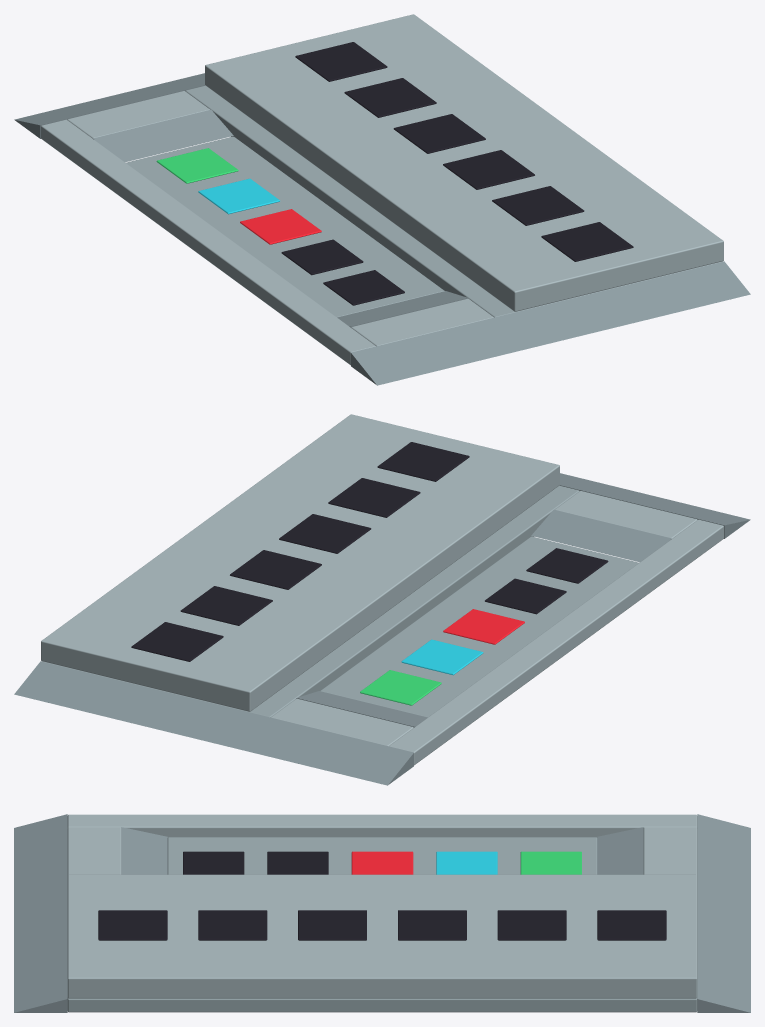
Rendered from Terrace_B.fbx.
3 views of the same model, one above another, from view 1: azimuth 30°, elevation 25°; view 2: azimuth 150°, elevation 25°; view 3: azimuth 270°, elevation 25° (orthographic).
Visible parts, largest first — view 1: RearShelf, EndSlope, TroughFloor, FrontRim, Back, TroughRamp.001, TroughEnd, TroughEnd.001, EndSlope.001, ShelfPad5, ShelfPad1, ShelfPad2 (+9 smaller); view 2: RearShelf, EndSlope.001, TroughFloor, FrontRim, Back, TroughRamp, TroughEnd, TroughEnd.001, EndSlope, ShelfPad2, ShelfPad6, ShelfPad3 (+9 smaller); view 3: RearShelf, FrontRim, EndSlope, EndSlope.001, Back, TroughFloor, TroughEnd, TroughEnd.001, ShelfPad1, ShelfPad6, ShelfPad2, ShelfPad5 (+9 smaller).
Boxes of the visible parts, x1,y1,x2,y2 form: RearShelf: [205, 14, 723, 311]; EndSlope: [351, 261, 750, 385]; TroughFloor: [126, 136, 444, 317]; FrontRim: [41, 119, 375, 365]; Back: [185, 85, 723, 317]; TroughRamp.001: [93, 109, 233, 162]; TroughEnd: [351, 298, 493, 346]; TroughEnd.001: [67, 91, 209, 138]; EndSlope.001: [14, 73, 205, 138]; ShelfPad5: [492, 186, 584, 225]; ShelfPad1: [295, 42, 387, 81]; ShelfPad2: [344, 78, 436, 117]; RearShelf: [41, 414, 559, 711]; EndSlope.001: [14, 661, 413, 785]; TroughFloor: [320, 536, 638, 717]; FrontRim: [389, 519, 723, 765]; Back: [41, 485, 579, 717]; TroughRamp: [531, 509, 671, 562]; TroughEnd: [555, 491, 697, 538]; TroughEnd.001: [271, 698, 413, 746]; EndSlope: [559, 473, 750, 538]; ShelfPad2: [180, 586, 272, 625]; ShelfPad6: [377, 442, 469, 481]; ShelfPad3: [230, 550, 321, 589]; RearShelf: [67, 874, 697, 998]; FrontRim: [67, 814, 697, 837]; EndSlope: [14, 814, 67, 1012]; EndSlope.001: [697, 814, 750, 1012]; Back: [67, 997, 697, 1012]; TroughFloor: [167, 837, 597, 874]; TroughEnd: [67, 827, 121, 875]; TroughEnd.001: [643, 827, 697, 875]; ShelfPad1: [597, 910, 666, 940]; ShelfPad6: [98, 910, 167, 940]; ShelfPad2: [497, 910, 566, 940]; ShelfPad5: [198, 910, 267, 940].
Size of the model in its own units: 5700 by 525 by 9600.
